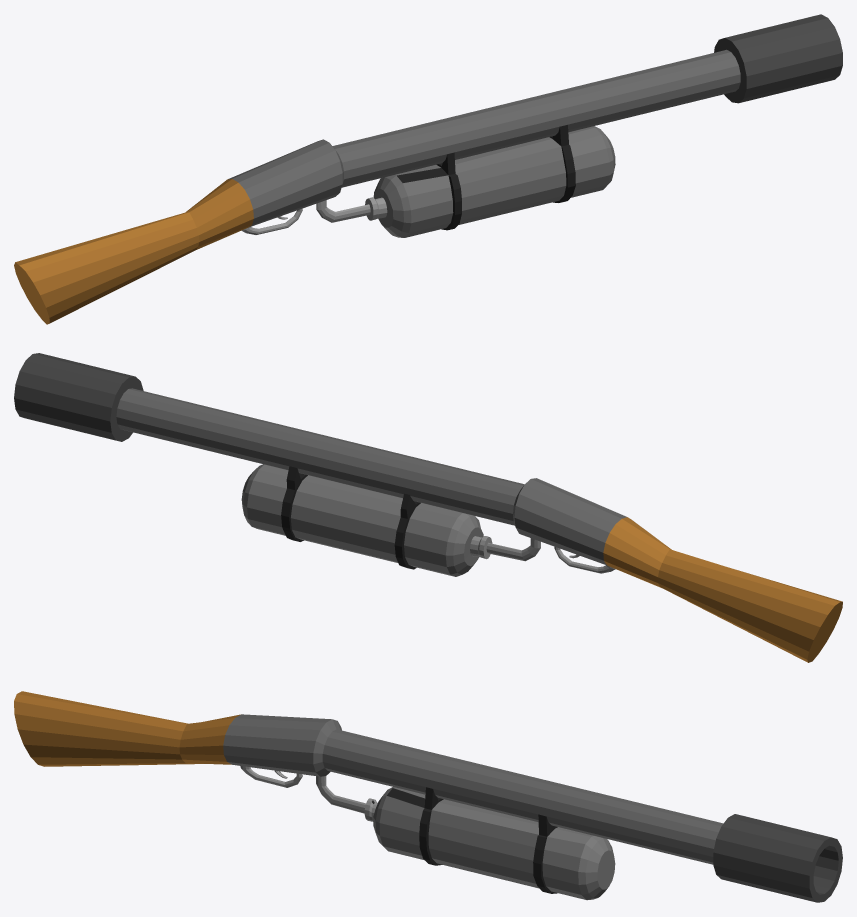
The model's file is FlameThrower.fbx.
3 views of the same model, one above another, from view 1: azimuth 30°, elevation 25°; view 2: azimuth 150°, elevation 25°; view 3: azimuth 330°, elevation 25° (orthographic).
Visible parts, largest first — view 1: Cylinder; view 2: Cylinder; view 3: Cylinder.
Boxes of the visible parts, x1,y1,x2,y2 form: Cylinder: (14, 14, 842, 324); Cylinder: (14, 353, 842, 662); Cylinder: (14, 691, 842, 902).
Size of the model in its own units: 446 by 62.14 by 34.19.
